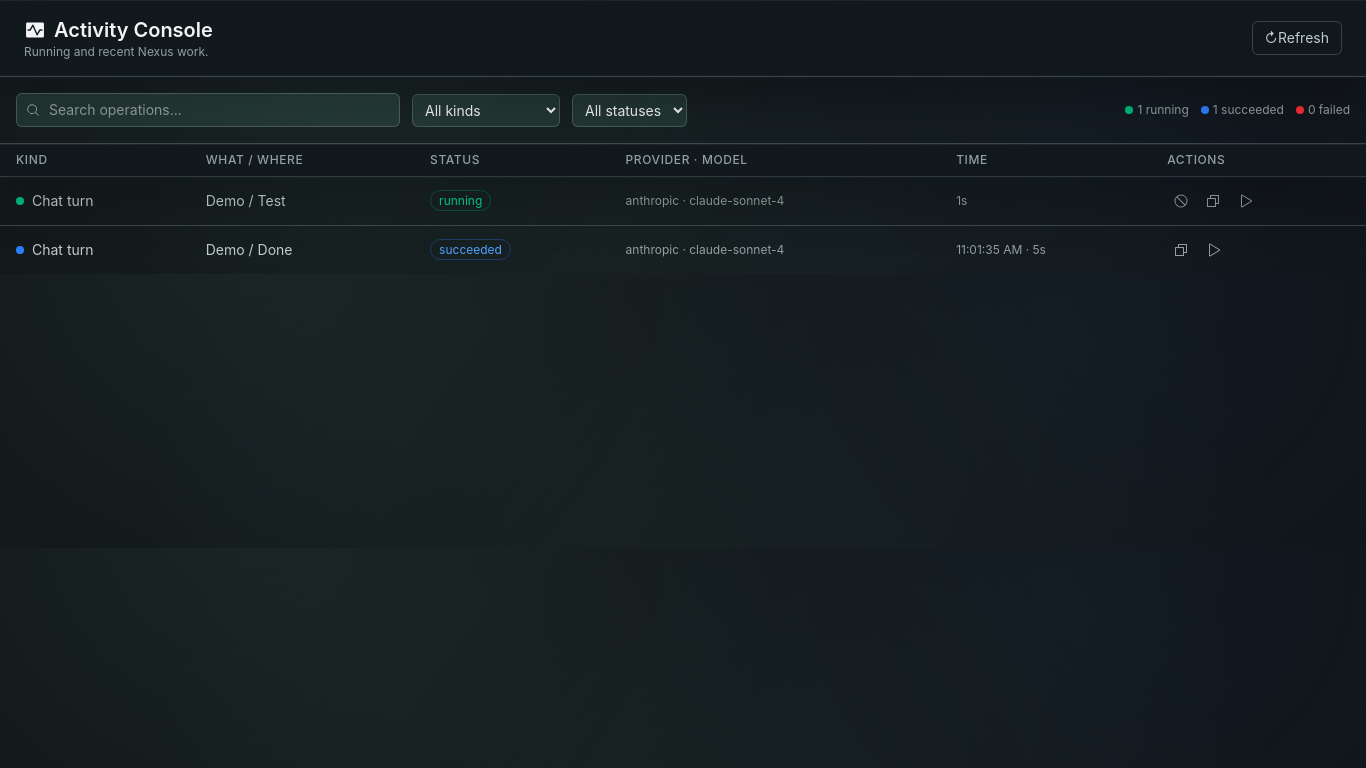
ActivityConsole › opens detail panel when a row is clicked
Click the text "Demo / Test": [246, 200] box [190,176,414,226]
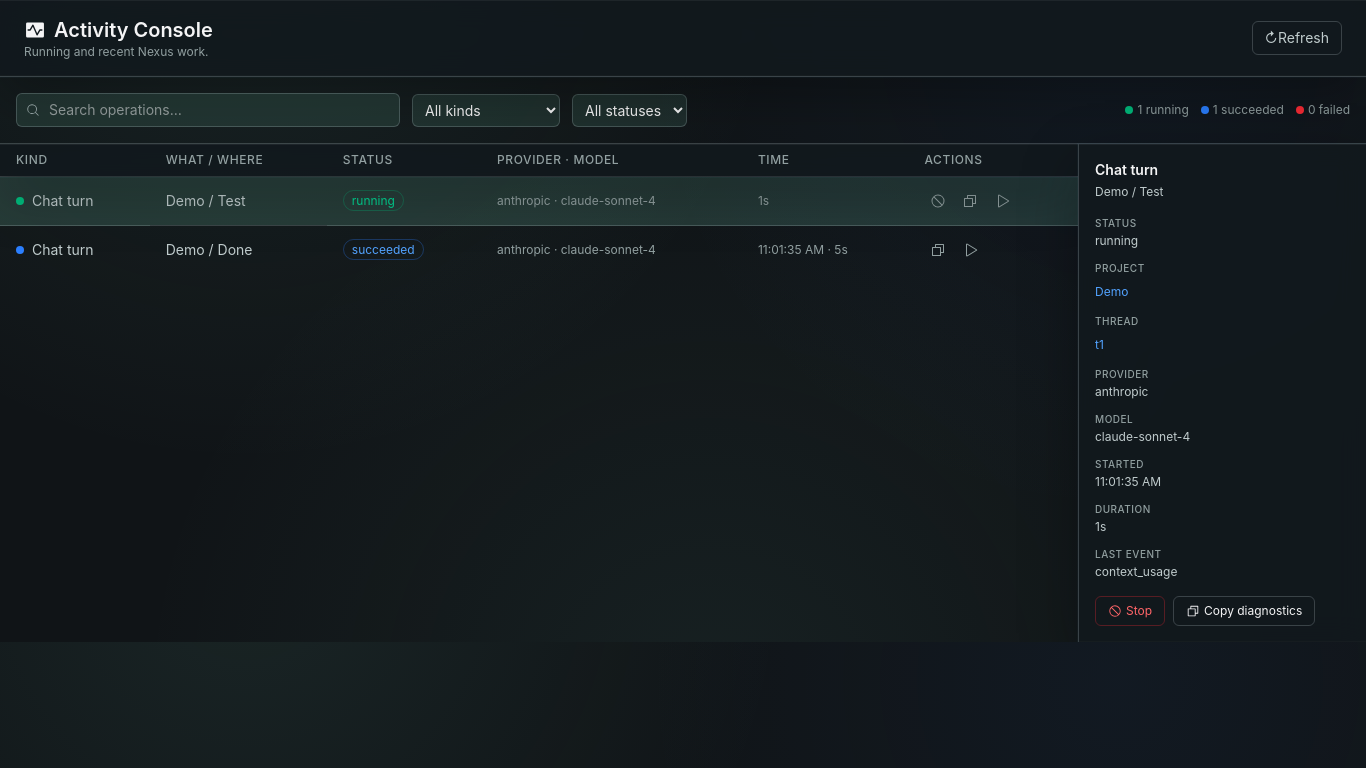
Check: the text "Last event" is shown, box [1095,548,1162,560]
Check: the text "context_usage" is shown, box [1095,564,1177,579]
